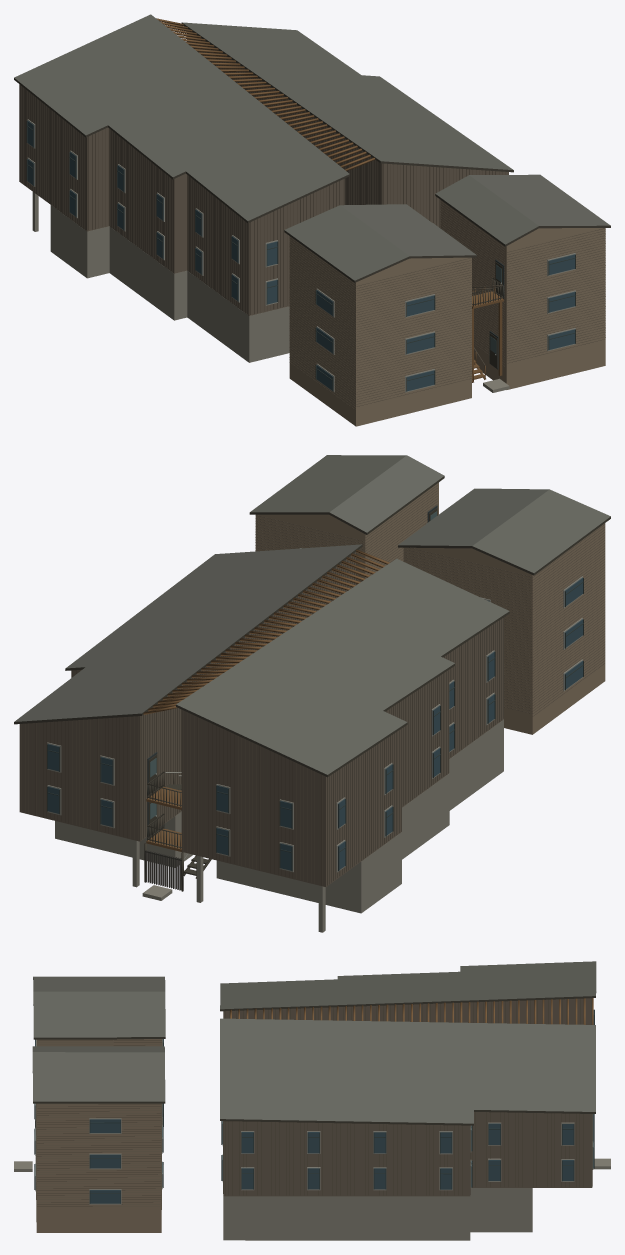
File: site.glb
3 views of the same model, one above another, from view 1: azimuth 30°, elevation 25°; view 2: azimuth 150°, elevation 25°; view 3: azimuth 270°, elevation 25° (orthographic). The views are drawn at different scales.
Visible parts, largest first — view 1: roof-0c745864, east-fifteenth-alley-apartments; view 2: roof-0c745864, east-fifteenth-alley-apartments; view 3: roof-0c745864, east-fifteenth-alley-apartments, e-fifteenth-pair-approaches.
Part boxes in pixels (x1,y1,x2,y2): roof-0c745864: (14,14,513,362); east-fifteenth-alley-apartments: (284,174,610,426); roof-0c745864: (14,544,509,932); east-fifteenth-alley-apartments: (249,455,610,734); roof-0c745864: (220,961,596,1240); east-fifteenth-alley-apartments: (32,976,165,1232); e-fifteenth-pair-approaches: (14,1158,610,1171).
Bounding box in the file's own units: 21.98 × 12.57 × 39.92.
